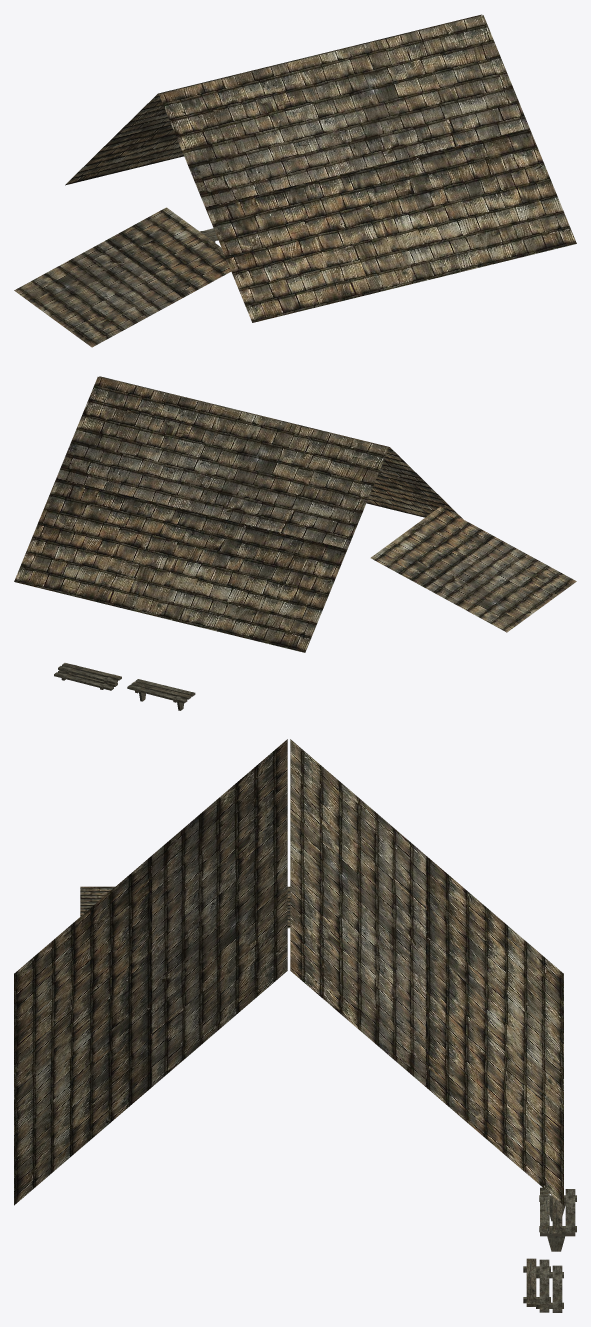
Rendered from house.obj.
3 views of the same model, one above another, from view 1: azimuth 30°, elevation 25°; view 2: azimuth 150°, elevation 25°; view 3: azimuth 270°, elevation 25° (orthographic). The views are drawn at different scales.
Visible parts, largest first — view 1: Cube_Krisha_0_Krisha; view 2: Cube_Krisha_0_Krisha, Cube_Lavo4ka_0_Lavo4ka; view 3: Cube_Krisha_0_Krisha, Cube_Lavo4ka_0_Lavo4ka.
Boxes of the visible parts, x1,y1,x2,y2 form: Cube_Krisha_0_Krisha: (14,14,576,347); Cube_Krisha_0_Krisha: (14,376,576,652); Cube_Lavo4ka_0_Lavo4ka: (54,663,195,710); Cube_Krisha_0_Krisha: (14,739,563,1205); Cube_Lavo4ka_0_Lavo4ka: (523,1187,576,1312).
Size of the model in its own units: 12.06 by 6.48 by 8.69.
